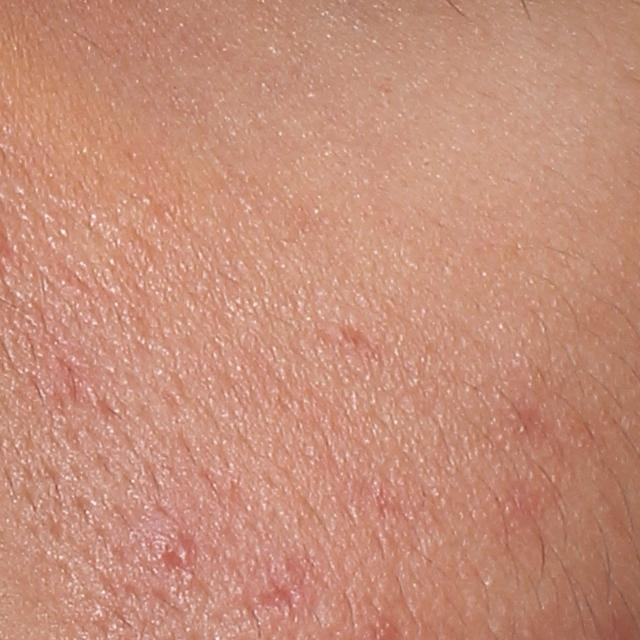papule: (160, 532, 197, 566)
